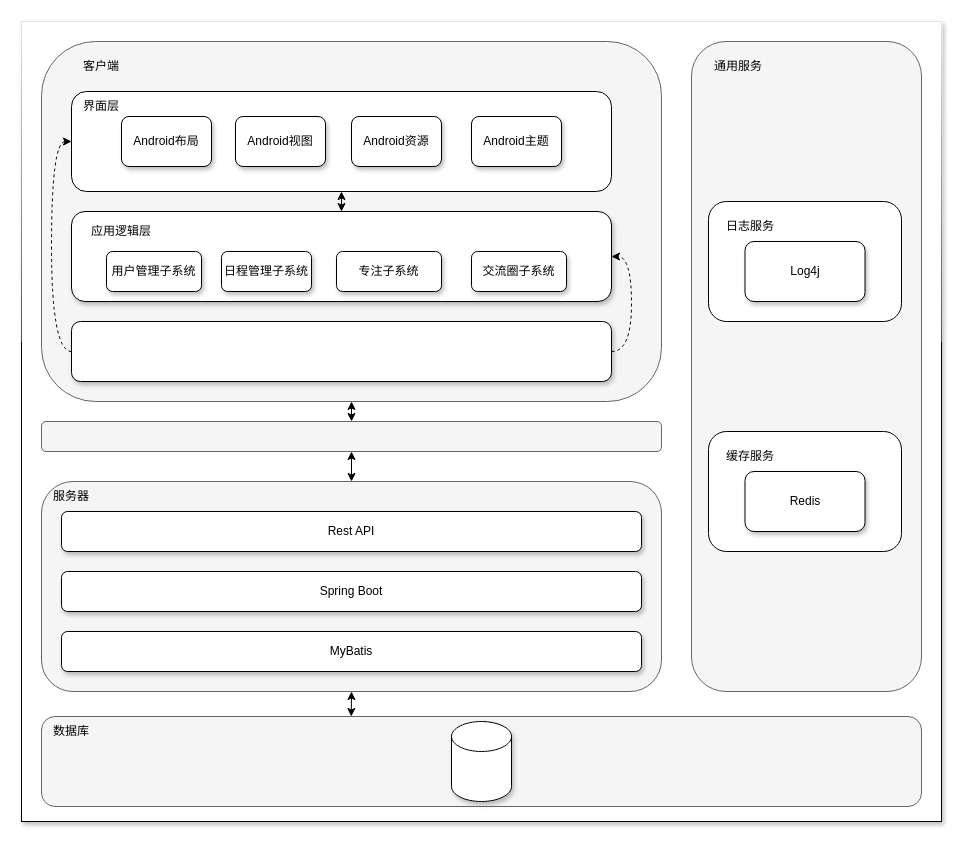
This 965x846 diagram has some shape labels left out. The shapes that lost their labels are listed below. From the top down, each one's centre as x and y in pixels, then its label:
point 342,352: Android SDK
point 351,436: API网关
point 482,762: Oracle
